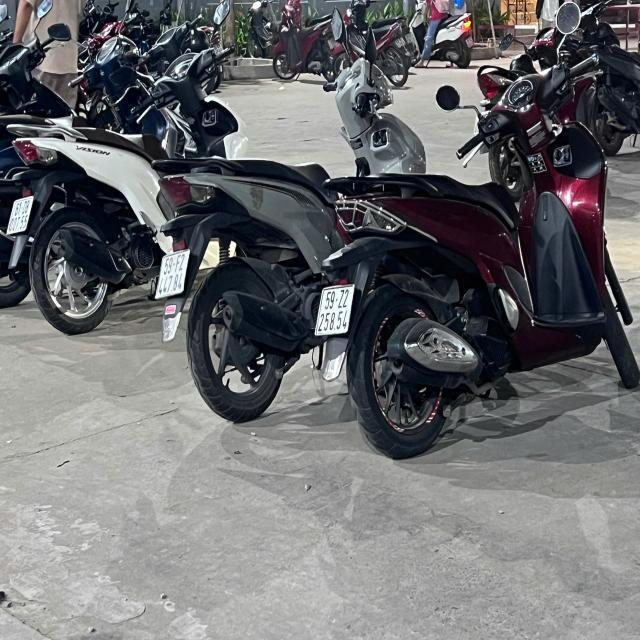motorcycle: (311, 2, 640, 454), (158, 22, 423, 426), (2, 35, 242, 330), (421, 9, 478, 65)
plate: (313, 282, 357, 338), (151, 249, 193, 302), (4, 195, 38, 238)
